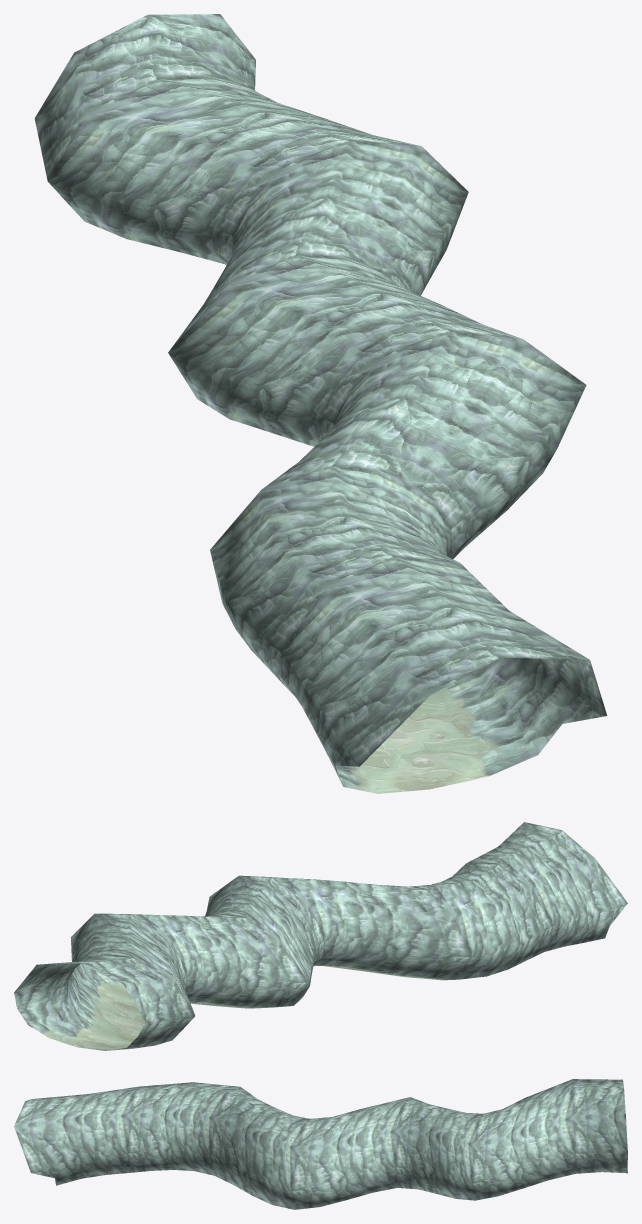
File: TROLLHOLE02_PS-MAINCAVE06.fbx
3 views of the same model, one above another, from view 1: azimuth 30°, elevation 25°; view 2: azimuth 150°, elevation 25°; view 3: azimuth 270°, elevation 25° (orthographic). The views are drawn at different scales.
Parts seen in each view (by area): view 1: TROLLHOLE02_PS-MAINCAVE06; view 2: TROLLHOLE02_PS-MAINCAVE06; view 3: TROLLHOLE02_PS-MAINCAVE06.
Boxes of the visible parts, left/top/right/bottom form: TROLLHOLE02_PS-MAINCAVE06: left=34, top=14, right=607, bottom=793; TROLLHOLE02_PS-MAINCAVE06: left=14, top=822, right=627, bottom=1050; TROLLHOLE02_PS-MAINCAVE06: left=14, top=1079, right=627, bottom=1209.
Bounding box in the file's own units: 183092 × 95241 × 358738.
2 materials, 2 textured.
